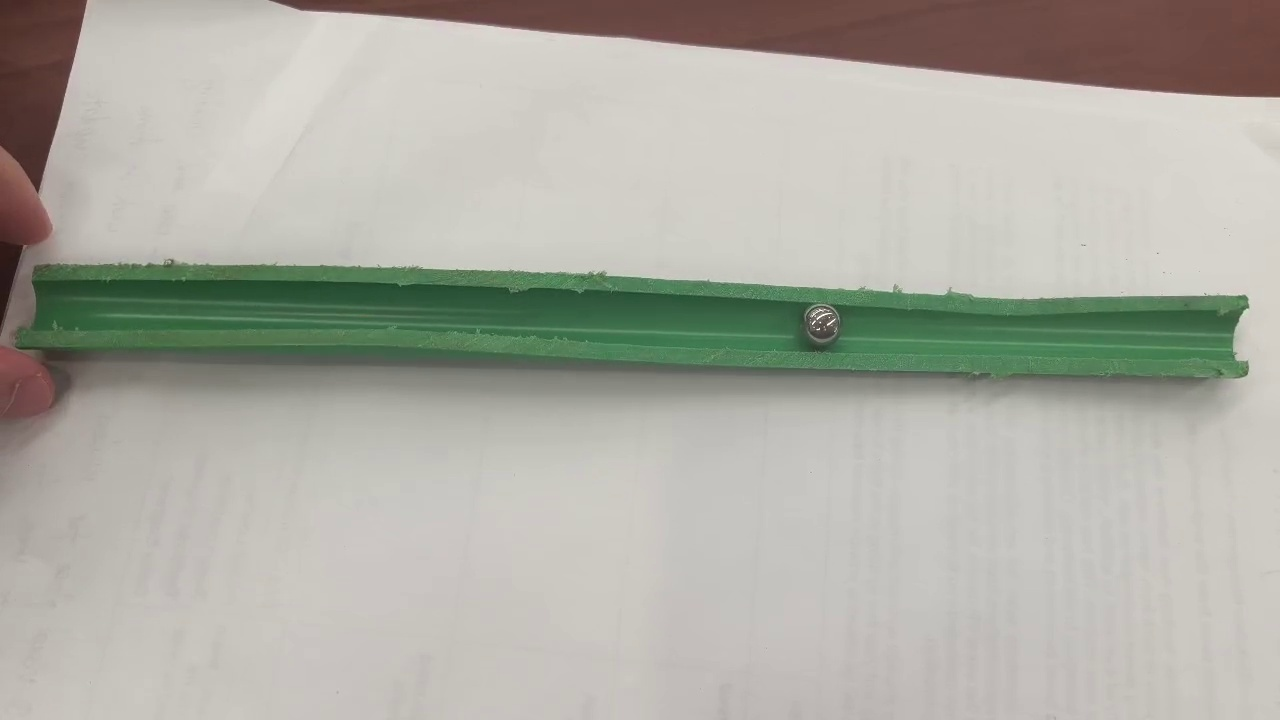ball: (804, 304, 840, 343)
